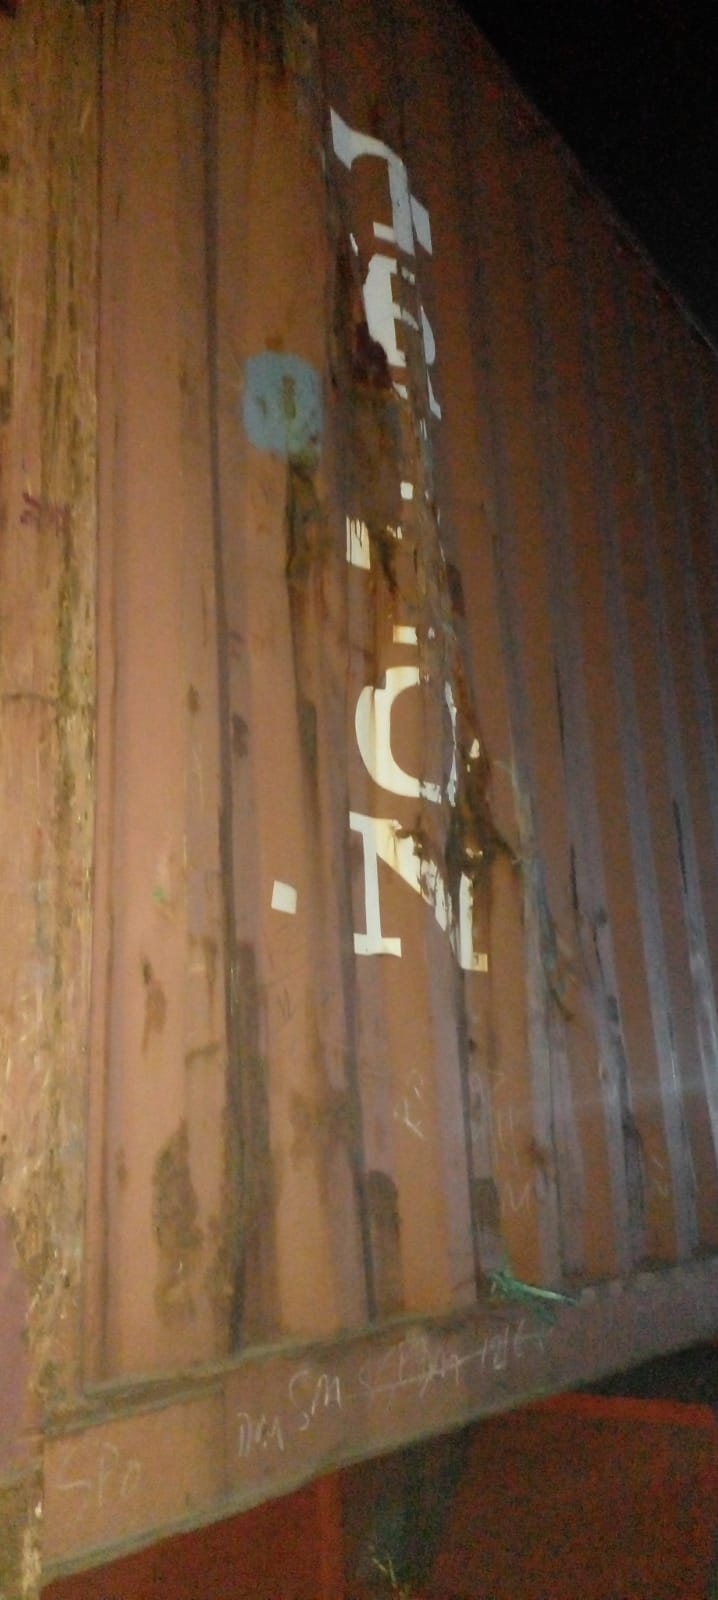rust: (260, 250, 548, 935)
